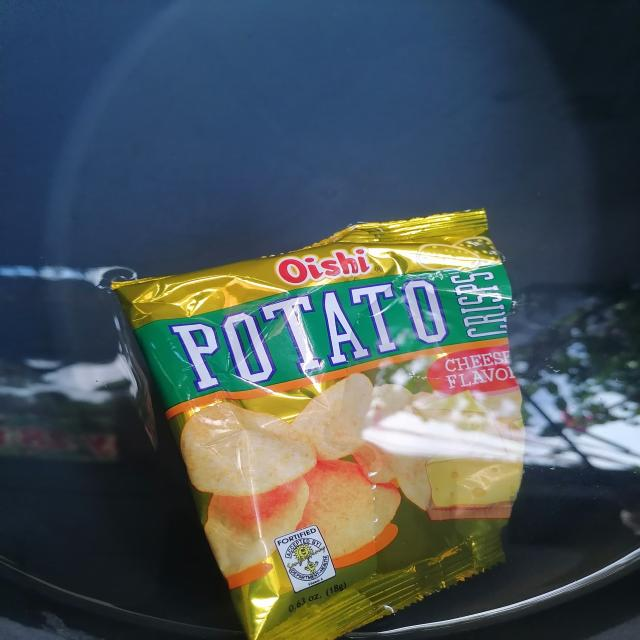Plastic Wrapper: (88, 195, 554, 640)
